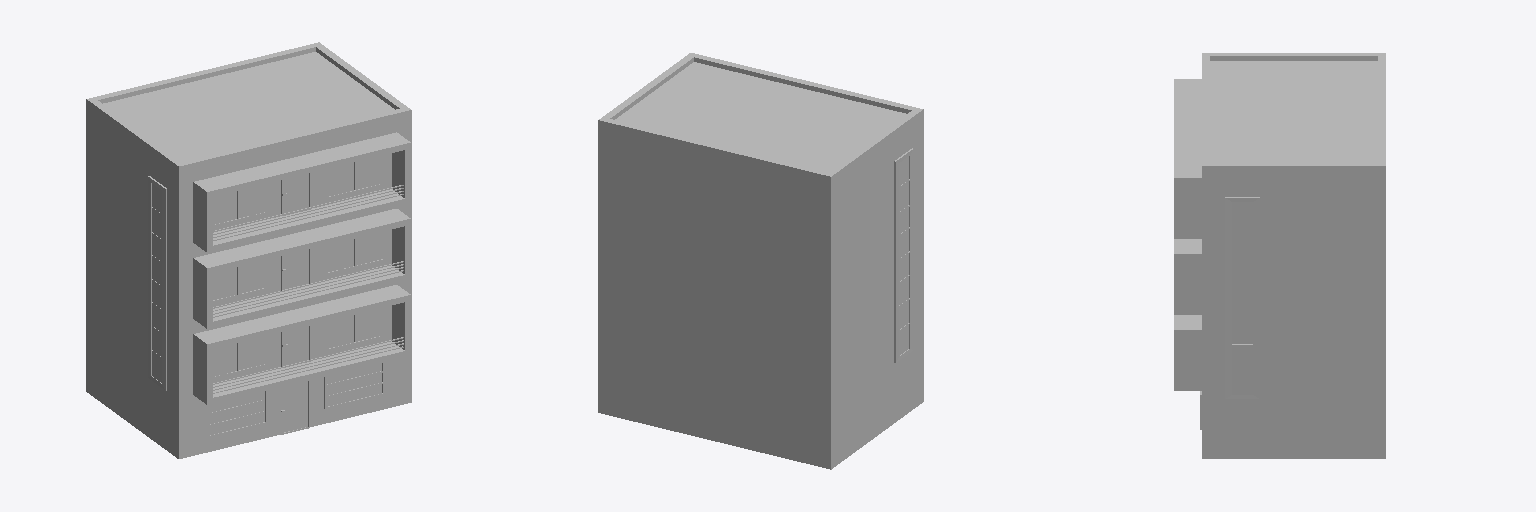
File: Building_Residential_color01.obj
3 views of the same model, side by side, from view 1: azimuth 30°, elevation 25°; view 2: azimuth 150°, elevation 25°; view 3: azimuth 270°, elevation 25° (orthographic).
Visible parts, largest first — view 1: Building_Residential_color01; view 2: Building_Residential_color01; view 3: Building_Residential_color01.
Part boxes in pixels (bbox=[...]): Building_Residential_color01: bbox=[86, 42, 411, 458]; Building_Residential_color01: bbox=[598, 53, 923, 469]; Building_Residential_color01: bbox=[1174, 53, 1385, 458].
Bounding box in the file's own units: 639 × 757 × 499.